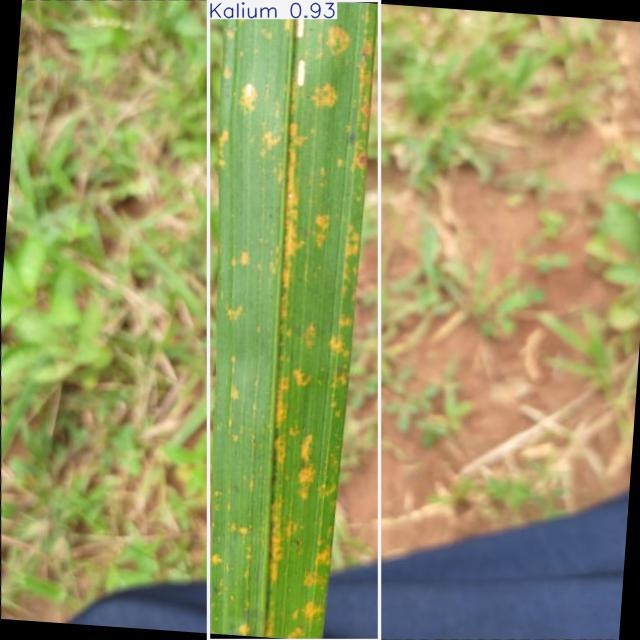Kalium: (208, 0, 379, 640)
